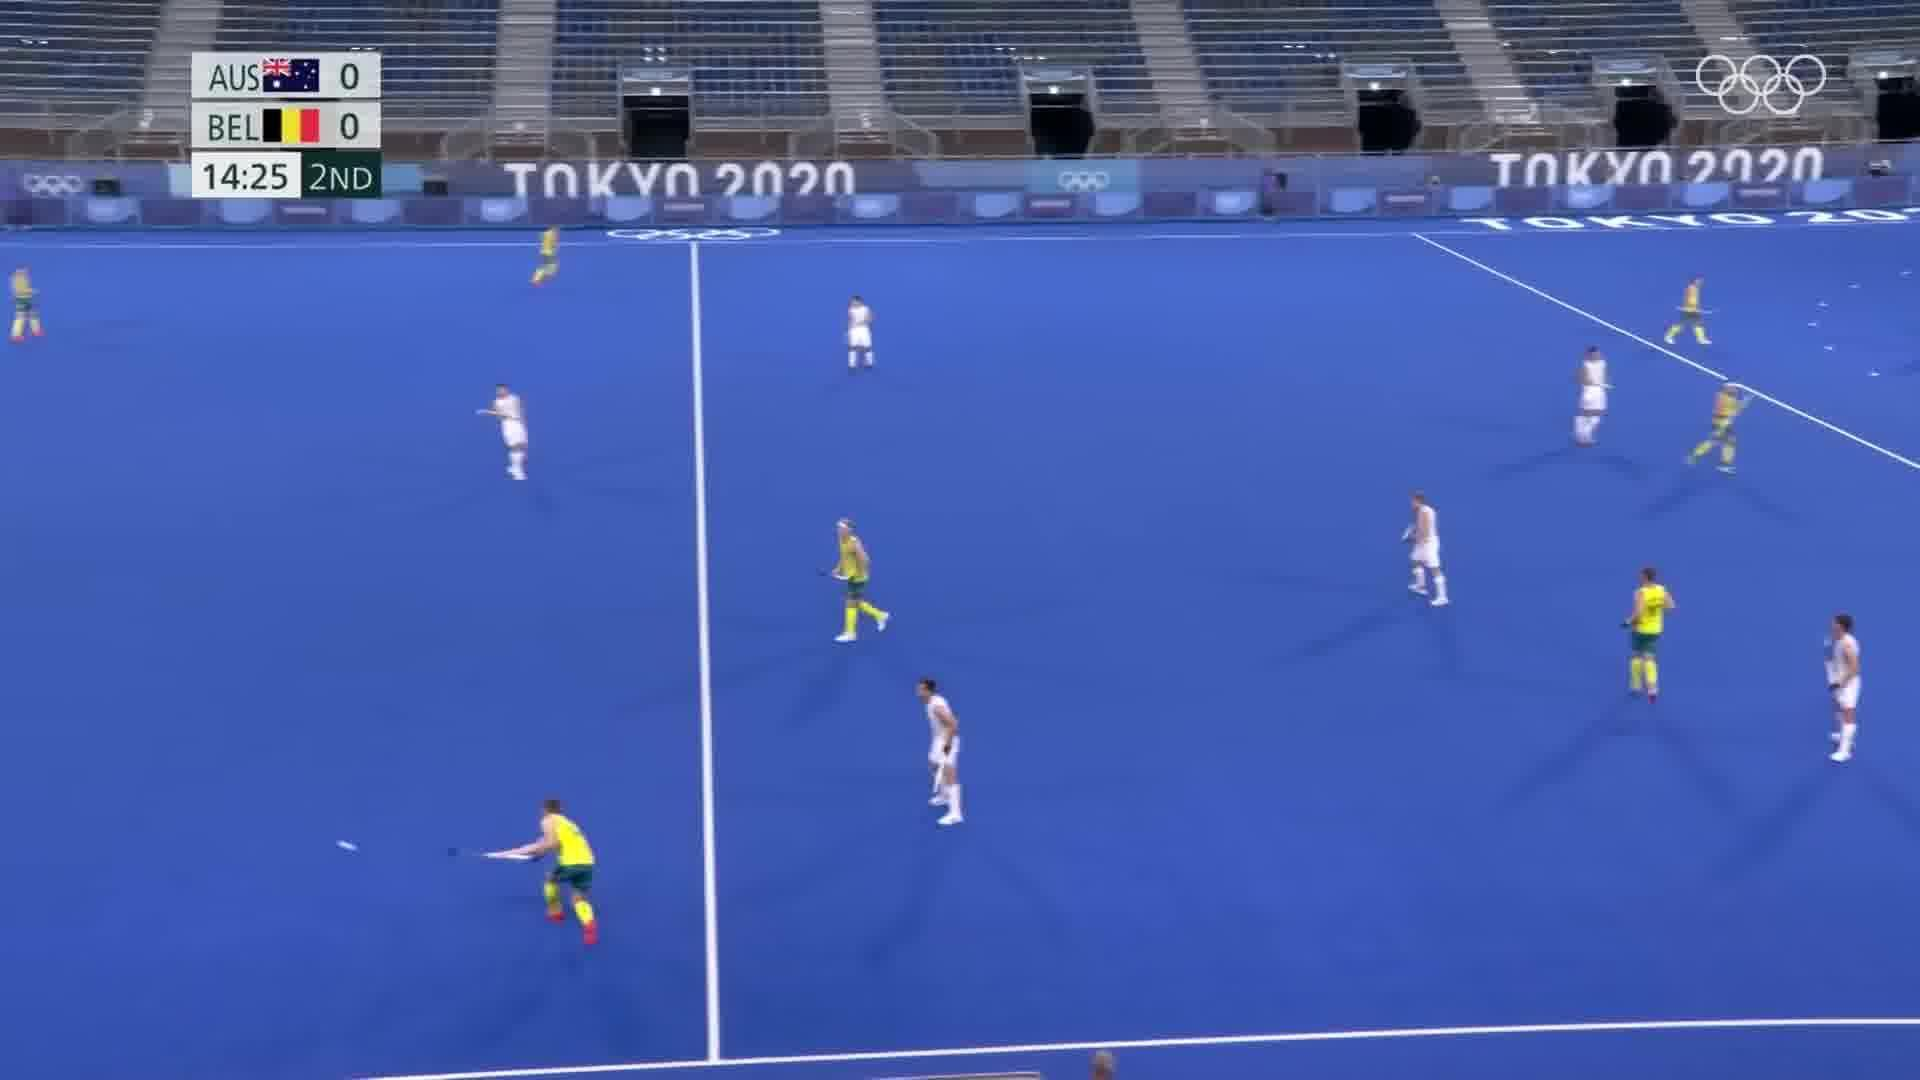ball: (331, 833, 364, 862)
